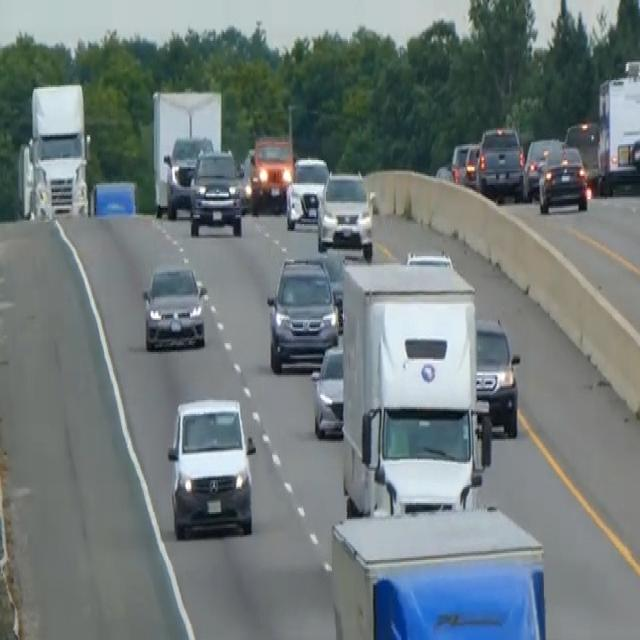car: (265, 254, 339, 372), (141, 261, 207, 352), (474, 315, 521, 437), (316, 167, 373, 256), (188, 148, 243, 236), (162, 131, 213, 217), (475, 123, 524, 201), (537, 142, 588, 214), (248, 134, 294, 212), (310, 341, 345, 439), (284, 153, 329, 229), (563, 118, 601, 188), (521, 135, 562, 199), (450, 138, 479, 186)
lorry: (339, 250, 492, 516), (20, 78, 93, 220)
minivan: (165, 393, 257, 540)
